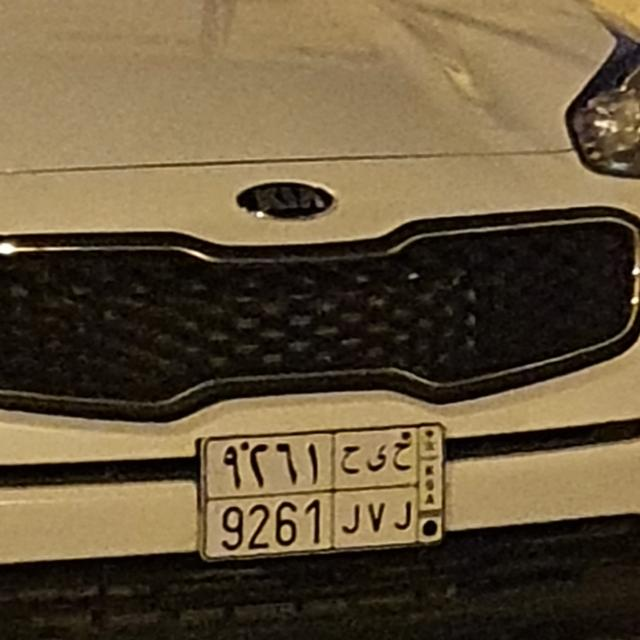license_plate: (194, 419, 450, 566)
